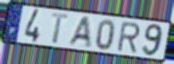0: (94, 17, 117, 52)
4: (24, 8, 41, 45)
9: (141, 23, 164, 58)
A: (66, 16, 93, 48)
R: (116, 21, 142, 54)
T: (51, 13, 70, 45)
